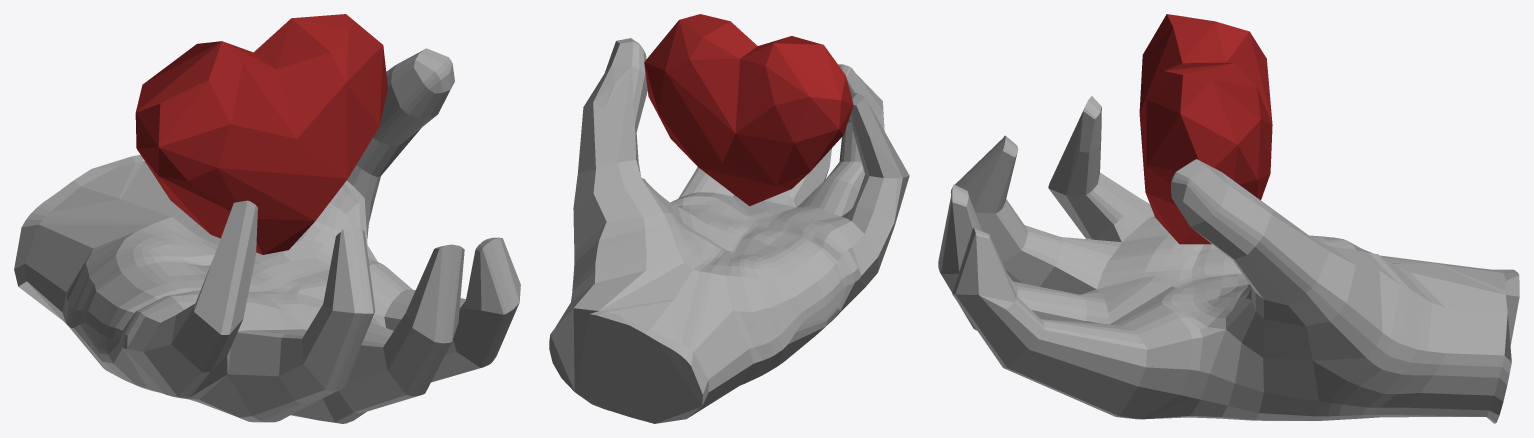
Rendered from hands-with-heart.fbx.
3 renders of one model, left to right at view 1: azimuth 30°, elevation 25°; view 2: azimuth 150°, elevation 25°; view 3: azimuth 270°, elevation 25°, orthographic. The views are drawn at different scales.
Visible parts, largest first — view 1: hand_with_heart:_KeyRingWallMountHand1; view 2: hand_with_heart:_KeyRingWallMountHand1; view 3: hand_with_heart:_KeyRingWallMountHand1.
Part boxes in pixels (x1,y1,x2,y2): hand_with_heart:_KeyRingWallMountHand1: [14, 14, 520, 423]; hand_with_heart:_KeyRingWallMountHand1: [549, 14, 909, 423]; hand_with_heart:_KeyRingWallMountHand1: [938, 14, 1519, 423].
Size of the model in its own units: 4.55 by 5.08 by 7.28.
